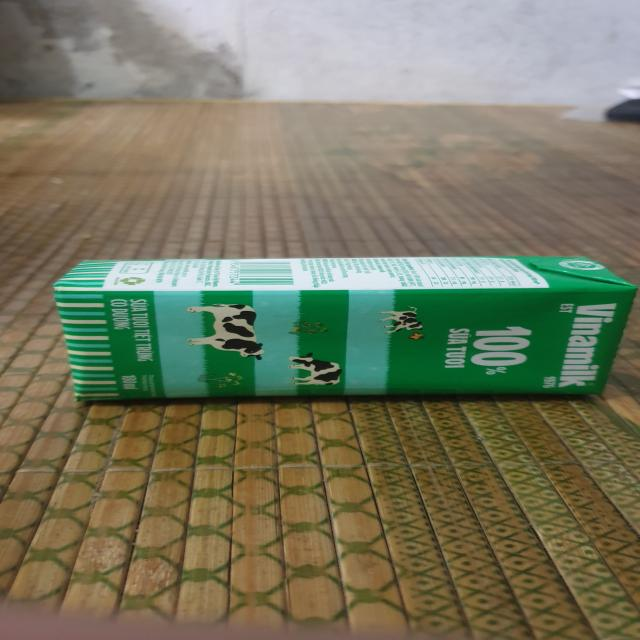Vina: (52, 258, 640, 407)
